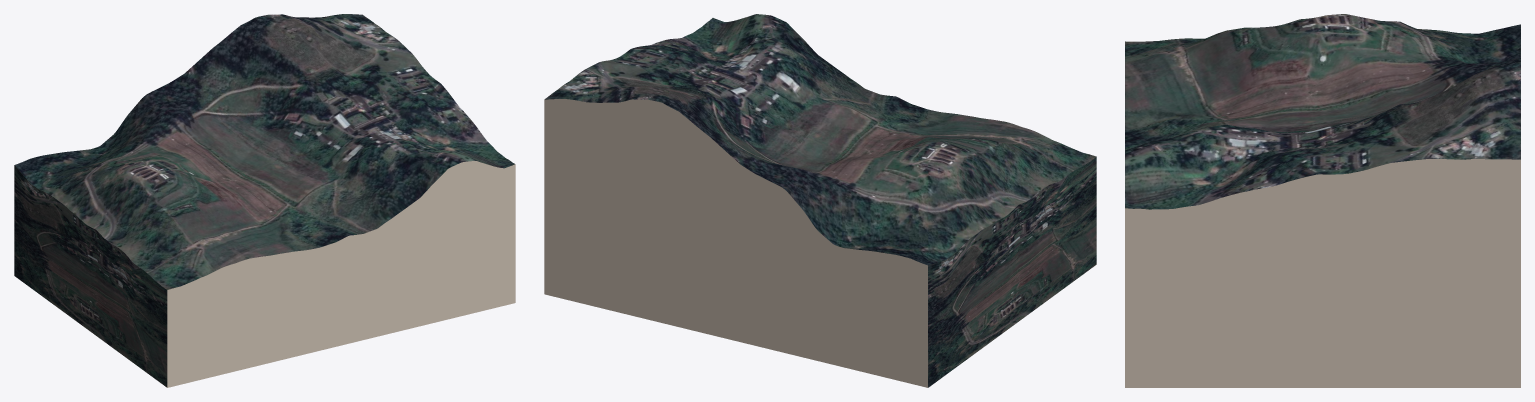
The model's file is edamame2.gltf.
The picture shows the model from 3 angles, left to right: view 1: azimuth 30°, elevation 25°; view 2: azimuth 150°, elevation 25°; view 3: azimuth 270°, elevation 25°; orthographic projection. The views are drawn at different scales.
Parts seen in each view (by area): view 1: DEM Pinetown, side (×2); view 2: side (×2), DEM Pinetown; view 3: side, DEM Pinetown.
Boxes of the visible parts, x1,y1,x2,y2 form: DEM Pinetown: (15,14,514,289); side (×2): (14,161,515,387); side (×2): (544,99,1096,387); DEM Pinetown: (544,14,1096,265); side: (1125,159,1520,387); DEM Pinetown: (1125,14,1520,209).
Bounding box in the file's own units: 100 × 54.86 × 76.1.
2 materials, 1 textured.
